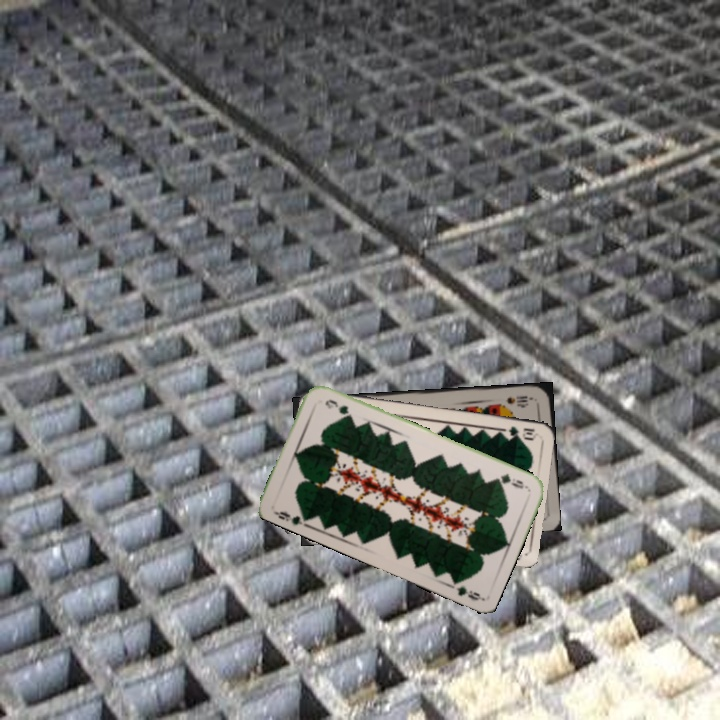G10: (504, 422, 540, 442)
G9: (269, 507, 311, 529), (490, 469, 530, 491)
S10: (502, 392, 535, 407)
